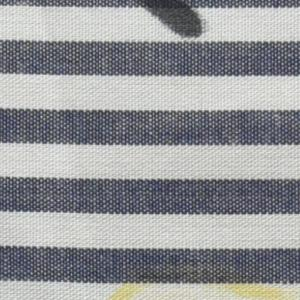Stain: (111, 266, 295, 300), (138, 1, 215, 46)
